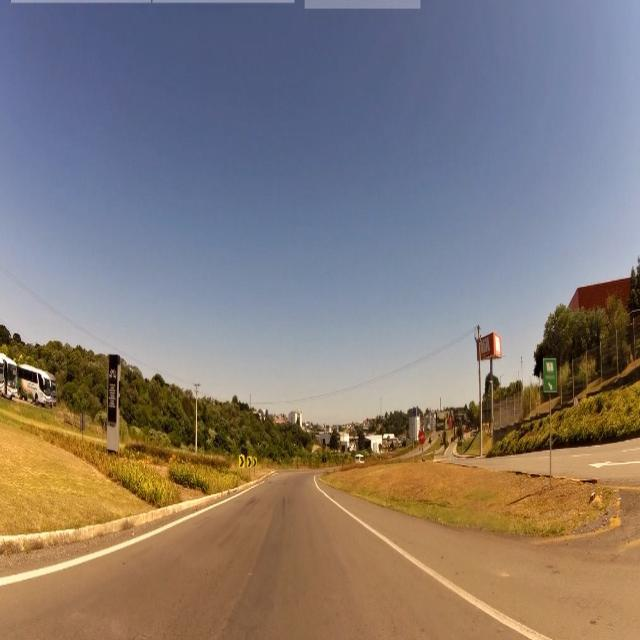Del: (238, 453, 244, 469), (247, 456, 252, 470)
